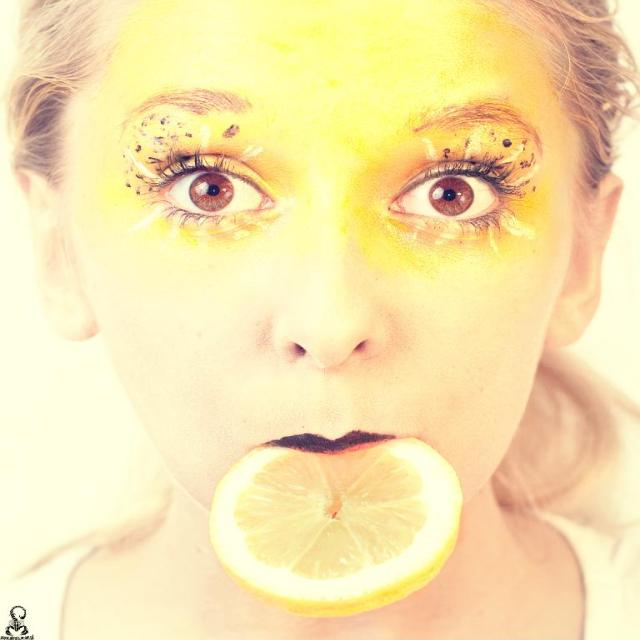Lemon: (209, 434, 463, 620)
